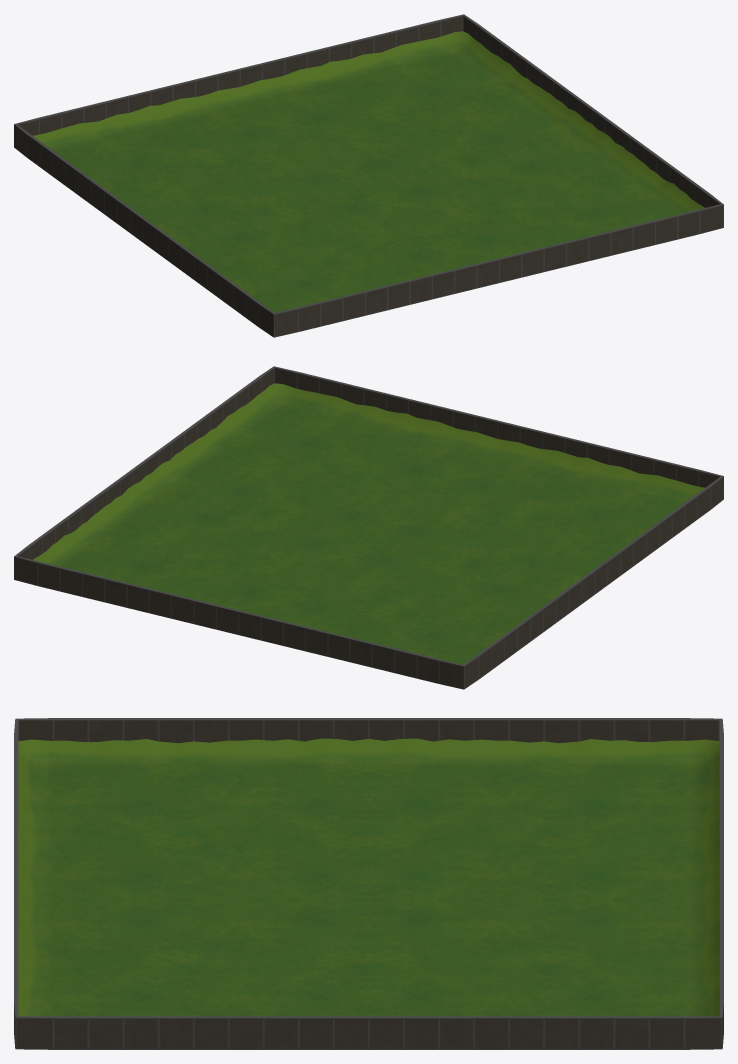
File: ground.glb
3 renders of one model, top to bottom at view 1: azimuth 30°, elevation 25°; view 2: azimuth 150°, elevation 25°; view 3: azimuth 270°, elevation 25°, orthographic. The views are drawn at different scales.
Visible parts, largest first — view 1: ground, wall; view 2: ground, wall; view 3: ground, wall.
Part boxes in pixels (x1,y1,x2,y2): ground: [33, 31, 704, 312]; wall: [14, 14, 723, 337]; ground: [33, 383, 704, 664]; wall: [14, 366, 723, 689]; ground: [18, 738, 719, 1016]; wall: [14, 718, 723, 1049].
Size of the model in its own units: 81 by 4.22 by 81.
Materials: 2 (2 with a texture image).
